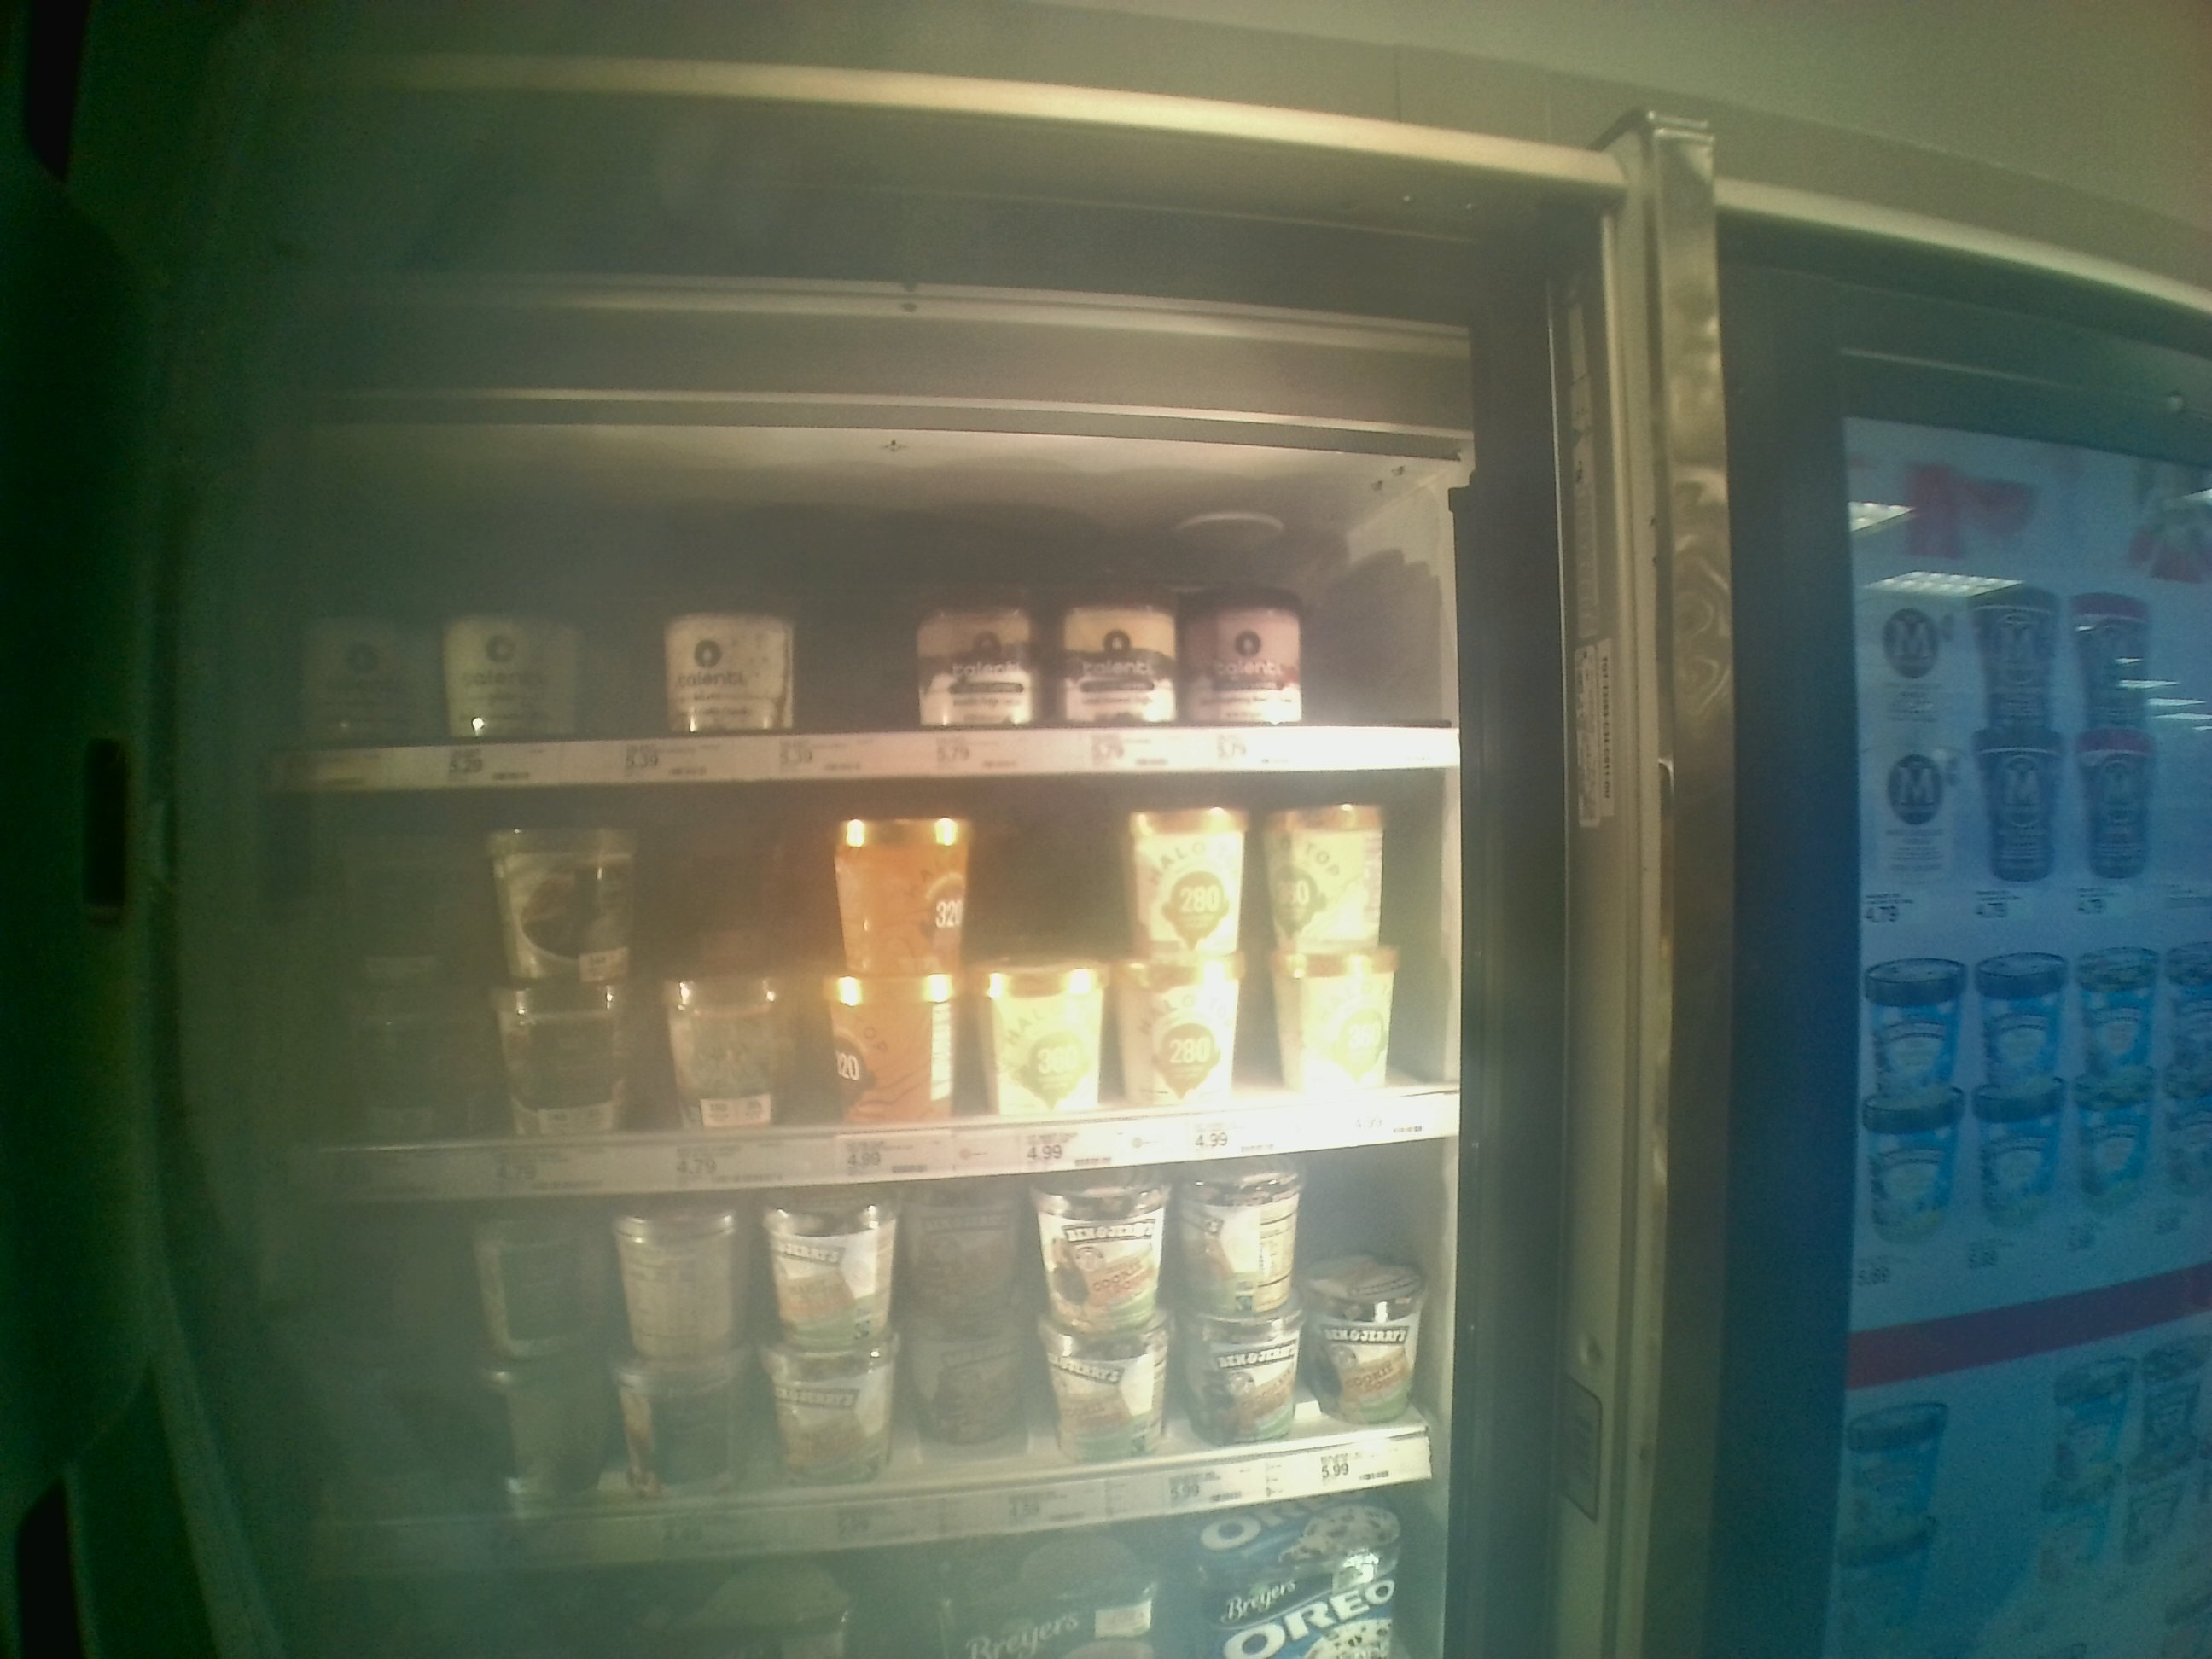shelf: (289, 1140, 1458, 1570), (256, 788, 1463, 1199), (270, 477, 1463, 779)
